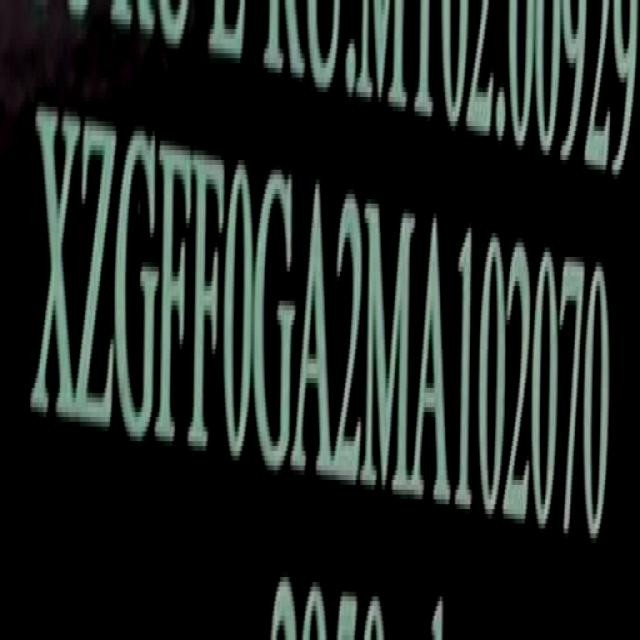0: (222, 165, 255, 470), (583, 268, 615, 548), (476, 233, 506, 526), (528, 242, 557, 532)
1: (452, 220, 478, 519)
2: (332, 186, 366, 496), (505, 236, 537, 530)
7: (554, 251, 583, 541)
A: (412, 208, 452, 512), (298, 176, 334, 482)
F: (158, 136, 195, 456), (190, 152, 226, 467)
G: (118, 126, 162, 450), (253, 164, 294, 472)
M: (366, 197, 416, 501)
X: (33, 98, 77, 435)
Z: (76, 112, 117, 444)
